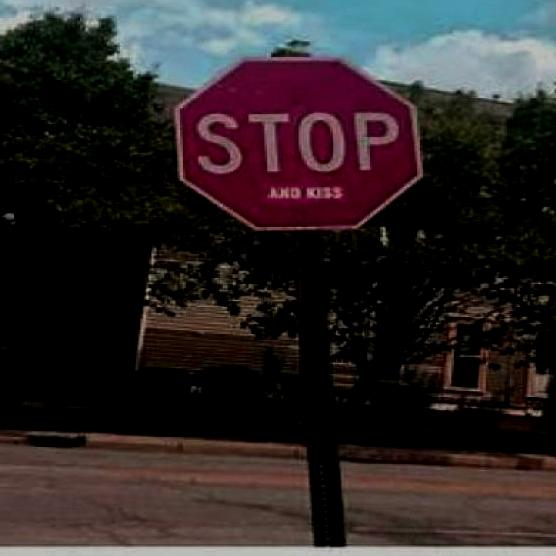stop_sign: (176, 59, 416, 228)
